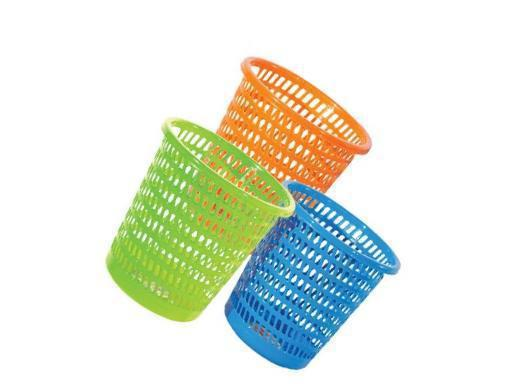Bote de Basura: (103, 116, 296, 316), (183, 59, 372, 240), (223, 173, 396, 368)
